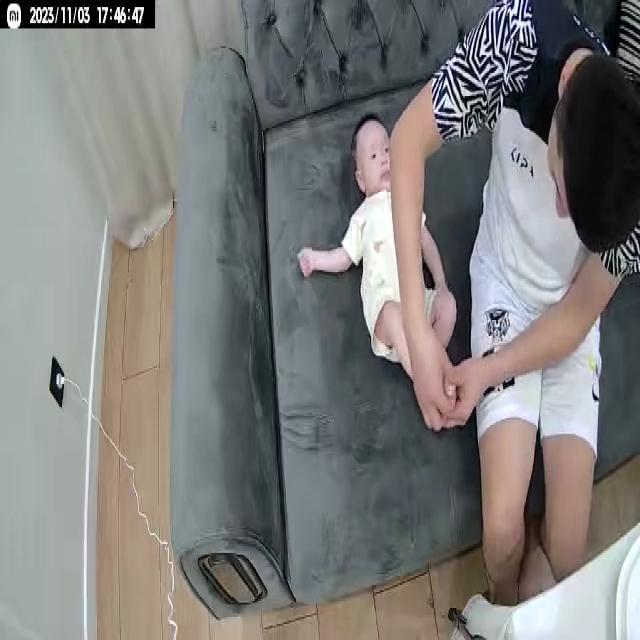baby: (298, 110, 461, 409)
